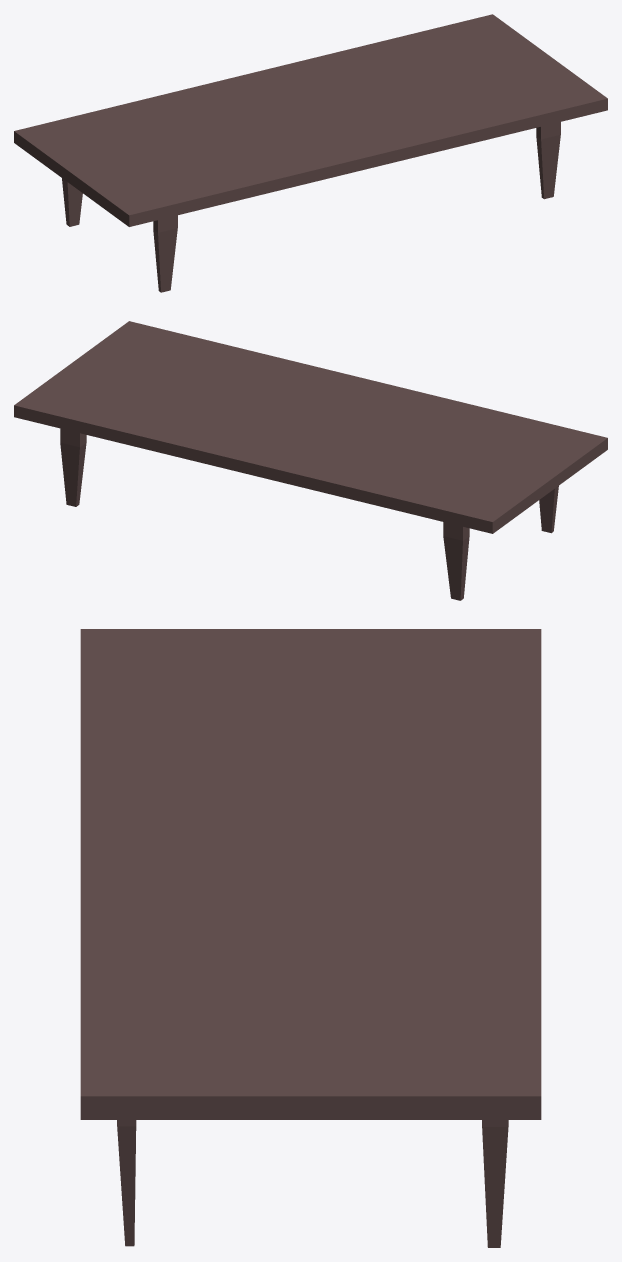
Rendered from Table.fbx.
3 views of the same model, one above another, from view 1: azimuth 30°, elevation 25°; view 2: azimuth 150°, elevation 25°; view 3: azimuth 270°, elevation 25° (orthographic). The views are drawn at different scales.
Visible parts, largest first — view 1: Cube.002; view 2: Cube.002; view 3: Cube.002.
Part boxes in pixels (<box>): Cube.002: <box>14,14,607,292</box>; Cube.002: <box>14,321,607,600</box>; Cube.002: <box>80,629,541,1247</box>.
Size of the model in its own units: 9.06 by 3.77 by 1.74.
